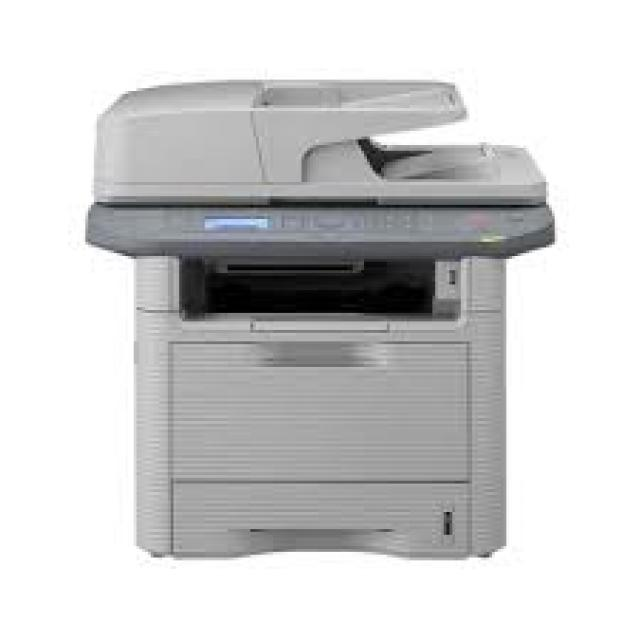printer: (78, 70, 568, 578)
